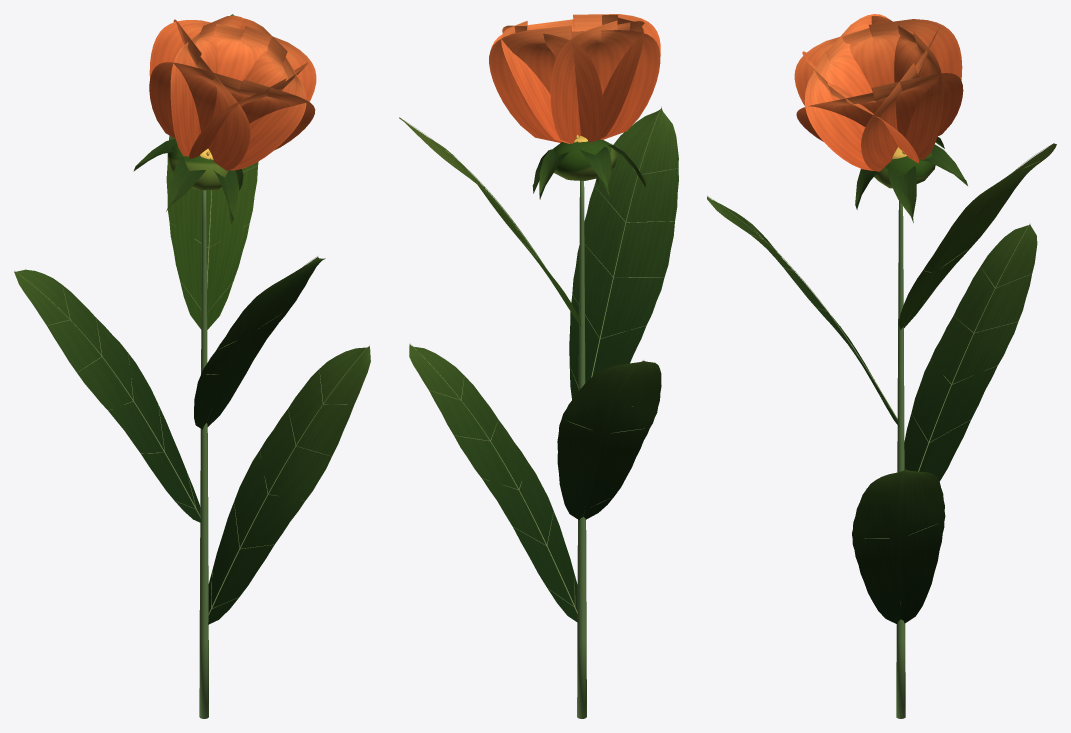
Rendered from tulip-10.glb.
3 views of the same model, side by side, from view 1: azimuth 30°, elevation 25°; view 2: azimuth 150°, elevation 25°; view 3: azimuth 270°, elevation 25° (orthographic).
Parts seen in each view (by area): view 1: tulip_stage_10_leaf_veins.018, tulip_stage_10_tulip_petal.018, tulip_stage_10_young_leaf.018, tulip_stage_10_stem_fibres.018, tulip_stage_10_raised_midveins.018; view 2: tulip_stage_10_leaf_veins.018, tulip_stage_10_tulip_petal.018, tulip_stage_10_stem_fibres.018, tulip_stage_10_young_leaf.018, tulip_stage_10_raised_midveins.018; view 3: tulip_stage_10_leaf_veins.018, tulip_stage_10_tulip_petal.018, tulip_stage_10_young_leaf.018, tulip_stage_10_stem_fibres.018, tulip_stage_10_raised_midveins.018.
Boxes of the visible parts, box(x1,y1,x2,y2) form: tulip_stage_10_leaf_veins.018: box(14, 139, 370, 624); tulip_stage_10_tulip_petal.018: box(149, 15, 316, 170); tulip_stage_10_young_leaf.018: box(166, 14, 258, 329); tulip_stage_10_stem_fibres.018: box(199, 190, 208, 718); tulip_stage_10_raised_midveins.018: box(14, 15, 369, 615); tulip_stage_10_leaf_veins.018: box(409, 107, 678, 622); tulip_stage_10_tulip_petal.018: box(489, 14, 660, 143); tulip_stage_10_stem_fibres.018: box(577, 181, 586, 718); tulip_stage_10_young_leaf.018: box(399, 117, 617, 326); tulip_stage_10_raised_midveins.018: box(399, 106, 678, 613); tulip_stage_10_leaf_veins.018: box(707, 136, 1037, 623); tulip_stage_10_tulip_petal.018: box(794, 14, 963, 171); tulip_stage_10_young_leaf.018: box(874, 143, 1056, 329); tulip_stage_10_stem_fibres.018: box(896, 201, 905, 718); tulip_stage_10_raised_midveins.018: box(707, 144, 1051, 604).
Size of the model in its own units: 0.279 by 0.6177 by 0.2837.
6 materials, 3 textured.
